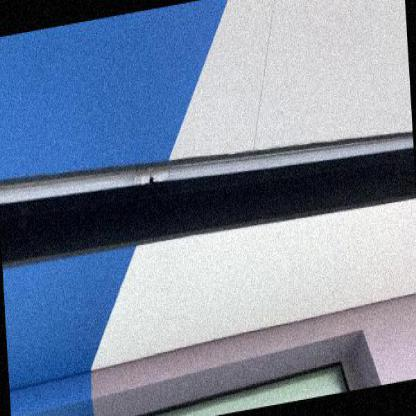light_off: (0, 55, 415, 255)
